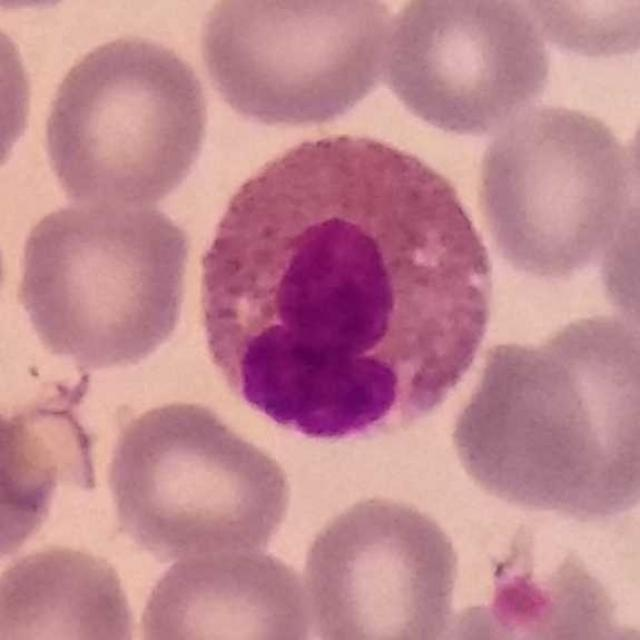Eosinophil: (198, 139, 499, 441)
Platelets: (491, 566, 550, 634)
RBC: (9, 194, 196, 372), (99, 394, 297, 561), (36, 29, 214, 209), (471, 98, 634, 282), (503, 309, 638, 522), (194, 0, 395, 132), (452, 337, 604, 511), (297, 490, 465, 639), (380, 0, 554, 136), (132, 540, 318, 640), (0, 538, 142, 640), (438, 572, 640, 640), (0, 396, 67, 574), (512, 0, 640, 62), (594, 188, 640, 357), (0, 4, 39, 190)
